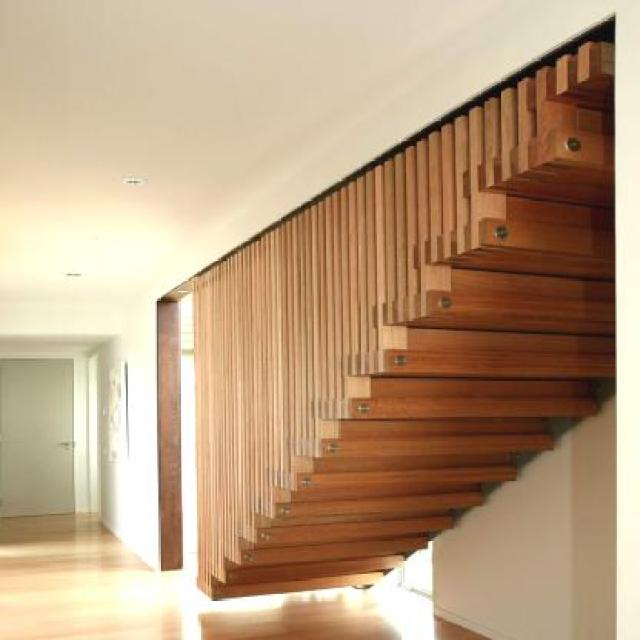stair: (180, 91, 602, 615)
